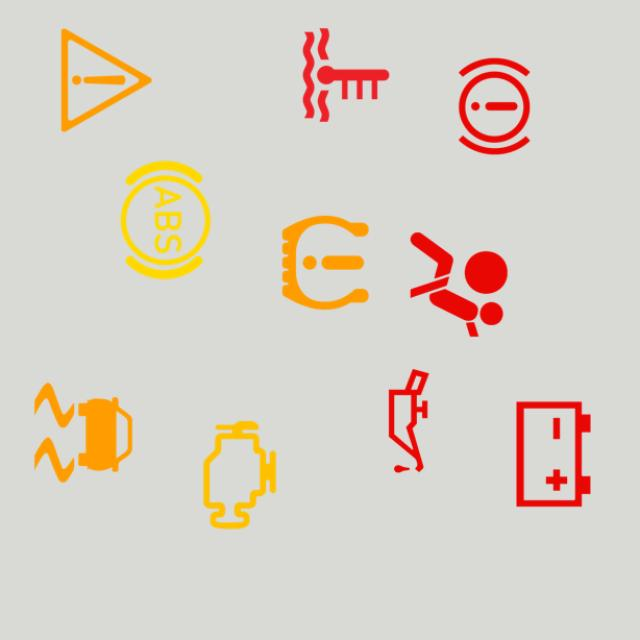Anti Lock Braking System: (101, 155, 230, 285)
Braking System Issue: (429, 42, 559, 171)
Charging System Issue: (489, 390, 618, 519)
Check Engine: (175, 411, 304, 540)
Electronic Stability Problem -ESP-: (19, 368, 148, 497)
Engine Overheating Warning Light: (281, 10, 411, 140)
Low Engine Oil Warning Light: (344, 356, 473, 486)
Low Tire Pressure Warning Light: (260, 198, 390, 327)
Master warning light: (42, 16, 171, 145)
SRS-Airbag: (394, 220, 523, 349)
